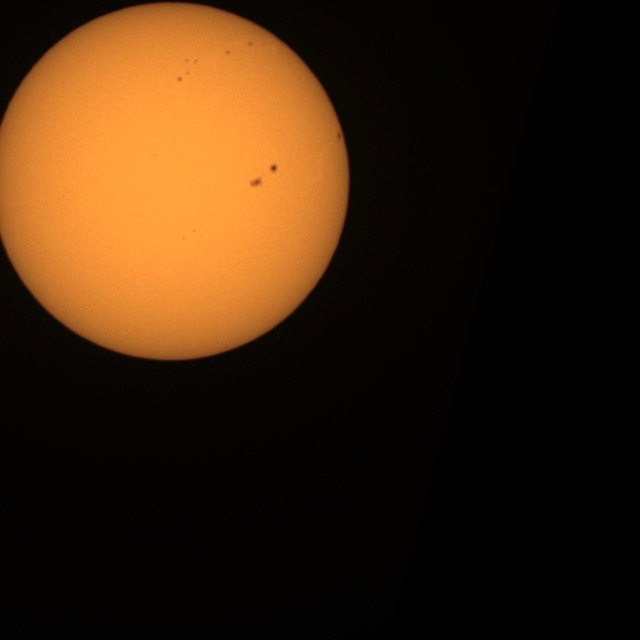sunspot: (248, 164, 280, 190), (177, 58, 198, 82), (249, 175, 266, 190), (181, 228, 196, 242), (176, 71, 190, 84), (269, 163, 279, 174), (176, 74, 185, 83), (336, 130, 343, 141), (247, 40, 254, 47), (224, 49, 231, 56), (181, 234, 187, 242), (191, 228, 196, 234)
